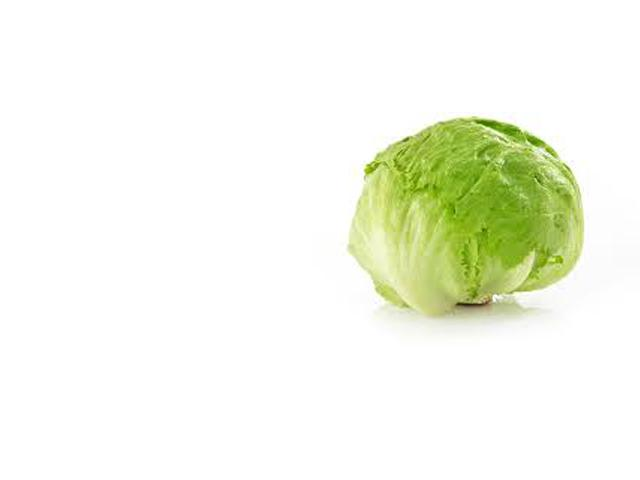lettuce: (346, 110, 611, 299)
